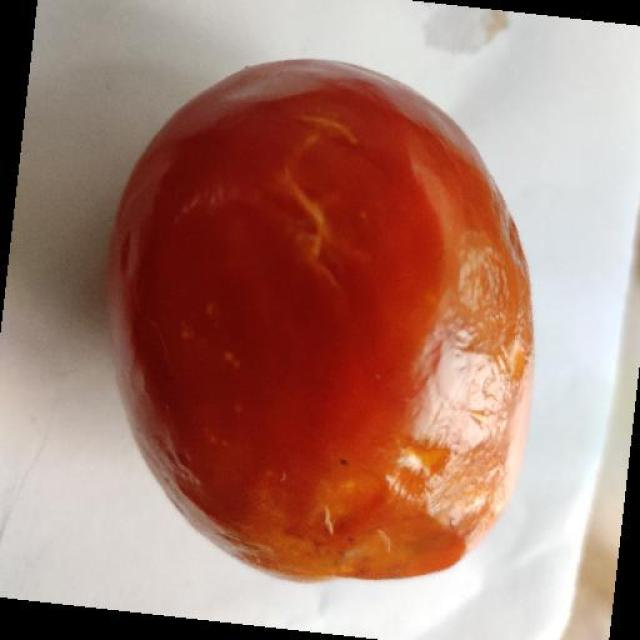Stale_tomato: (104, 44, 515, 576)
